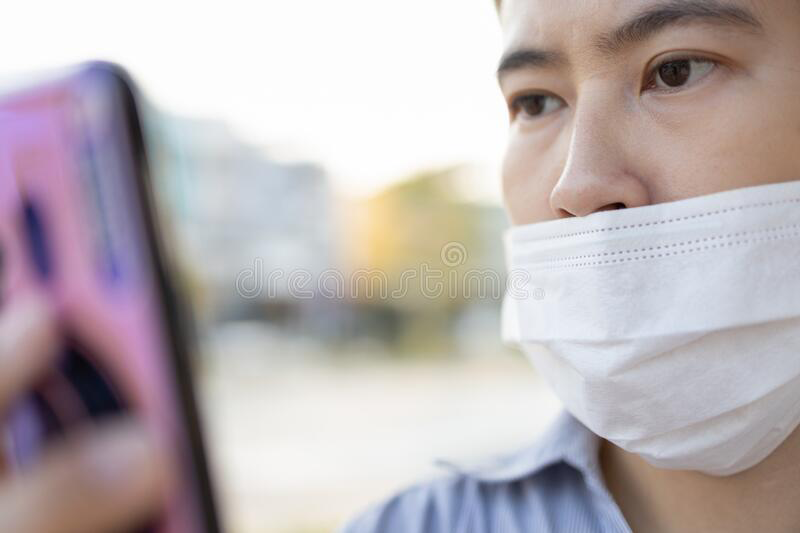mask_weared_incorrect: (493, 29, 800, 481)
